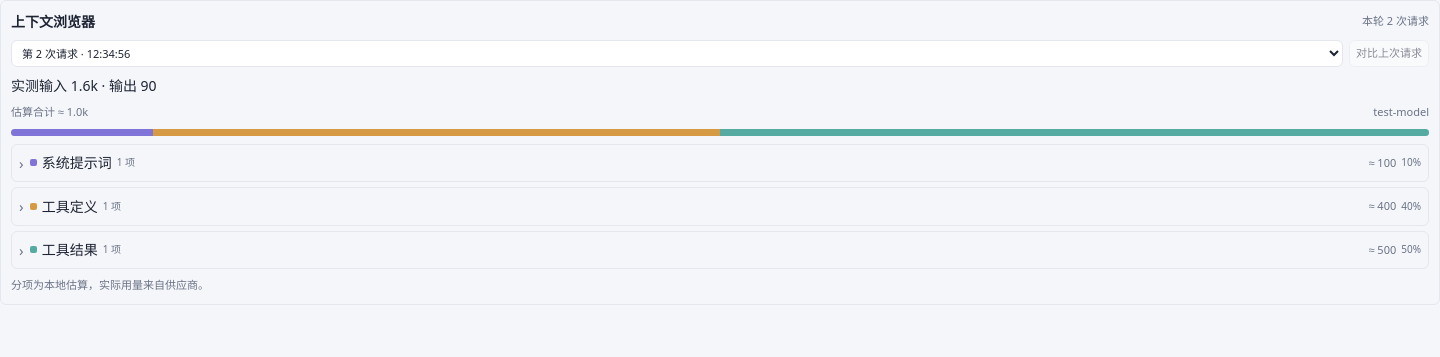
Scenario: RequestContextBrowser › 分页拒绝或返回其他轮次时保留当前数据，允许重新加载
Select "加载更早请求…" in the dropdown at x=677, y=54, box [11,40,1343,67]
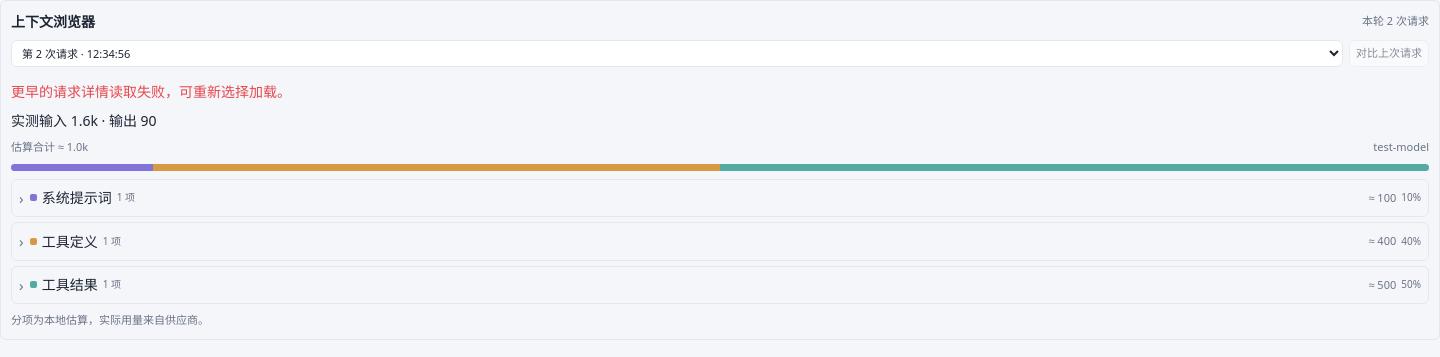
expect the text "更早的请求详情读取失败，可重新选择加载。" is shown: met, box [11,82,291,101]
Select "加载更早请求…" in the dropdown at x=677, y=54, box [11,40,1343,67]
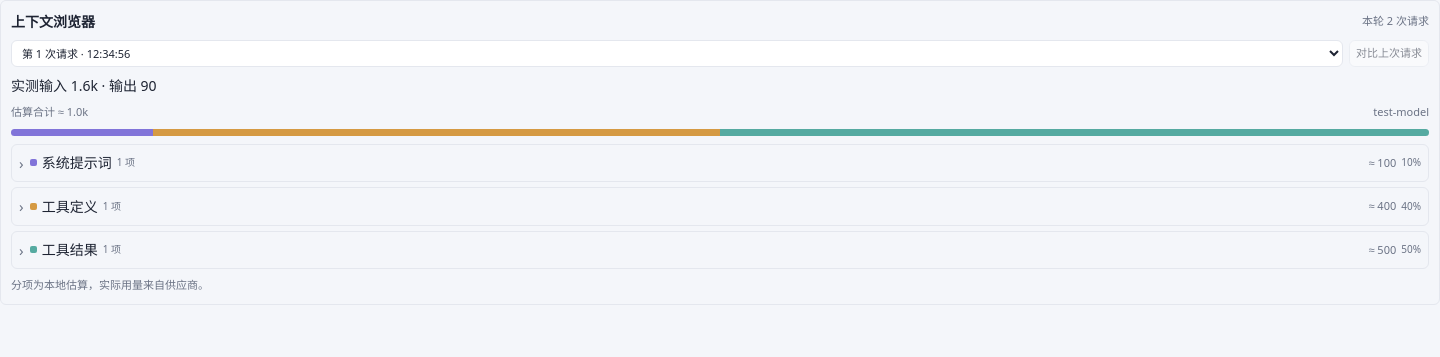
expect the text "读取失败" is gone: met
